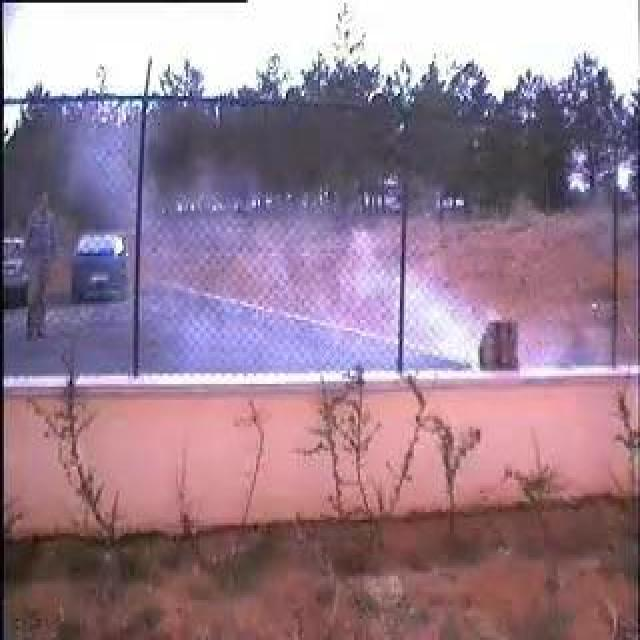Smoke: (295, 194, 485, 370)
